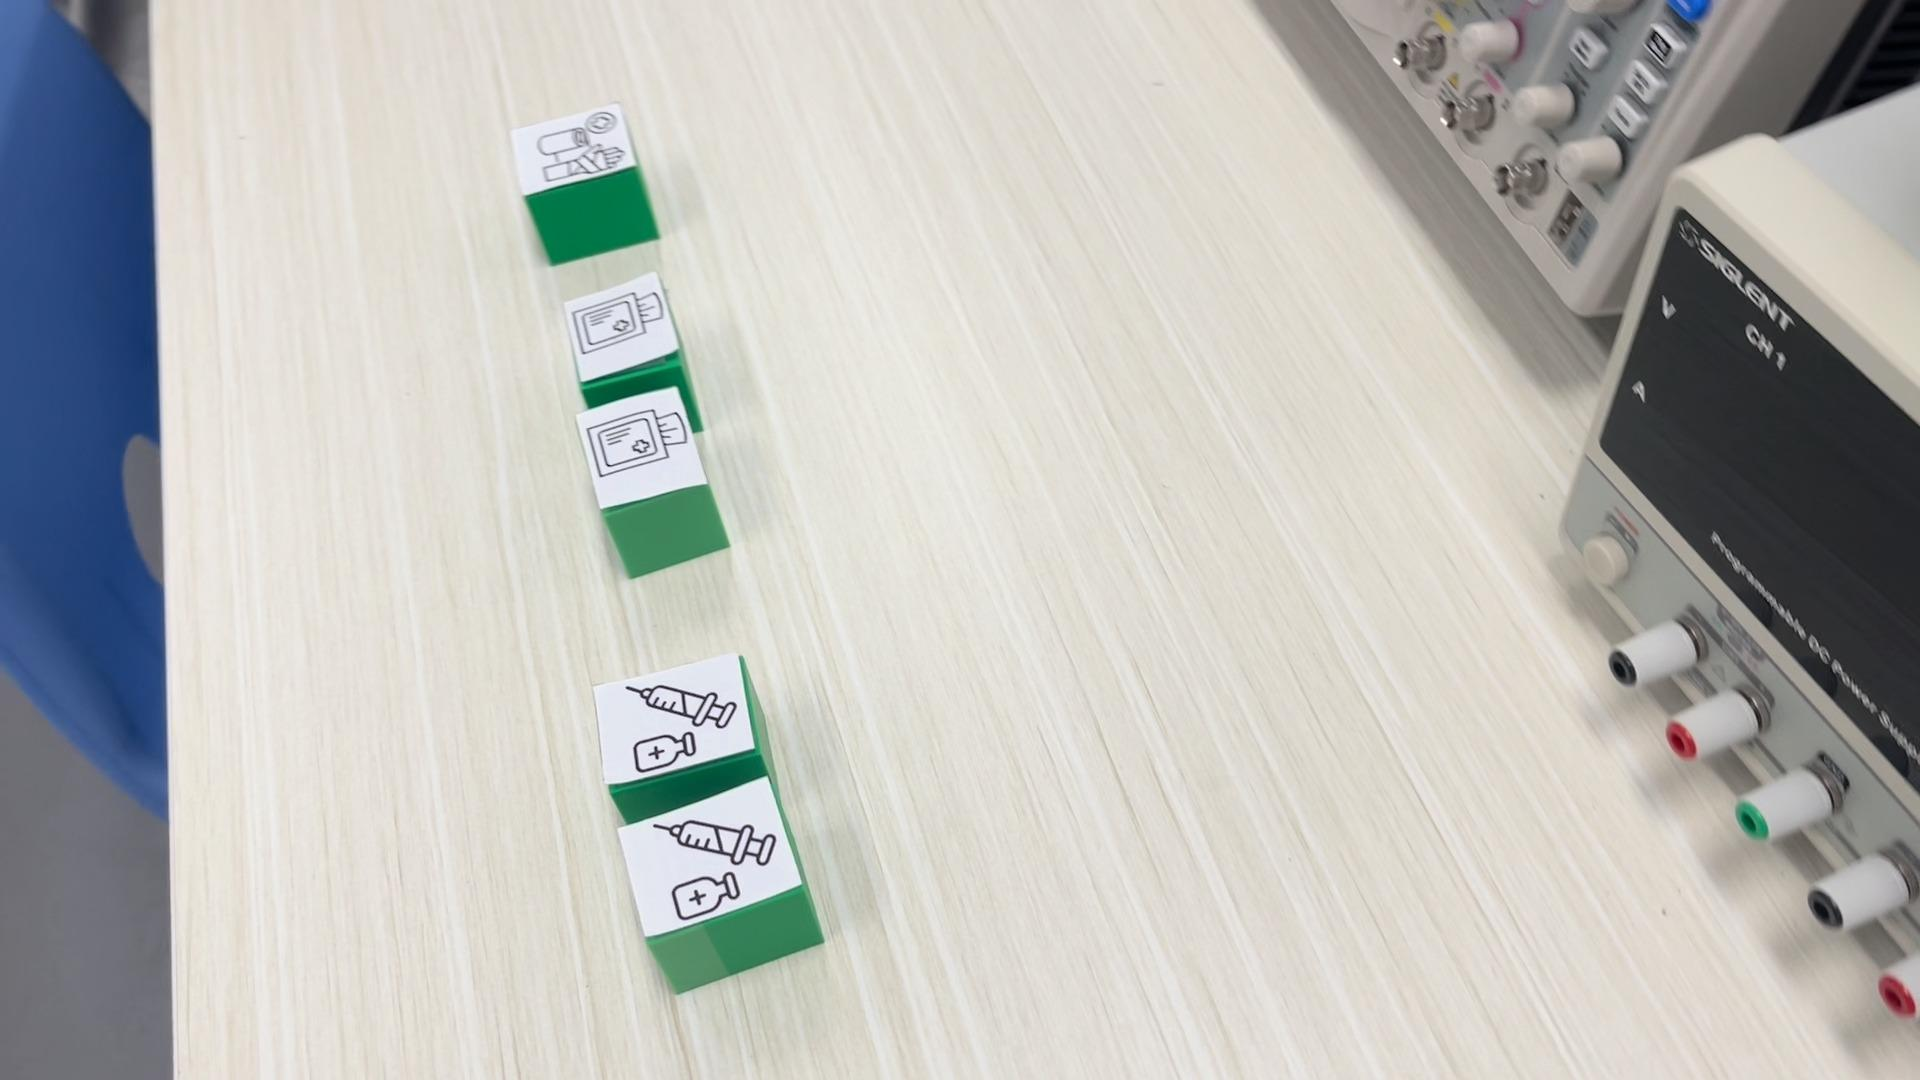Bandages: (506, 102, 662, 265)
Gauze: (574, 385, 728, 578), (563, 272, 686, 409)
antiseptic cream: (609, 775, 827, 993), (593, 651, 769, 818)
